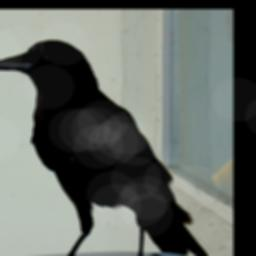Crow: (0, 39, 208, 256)
